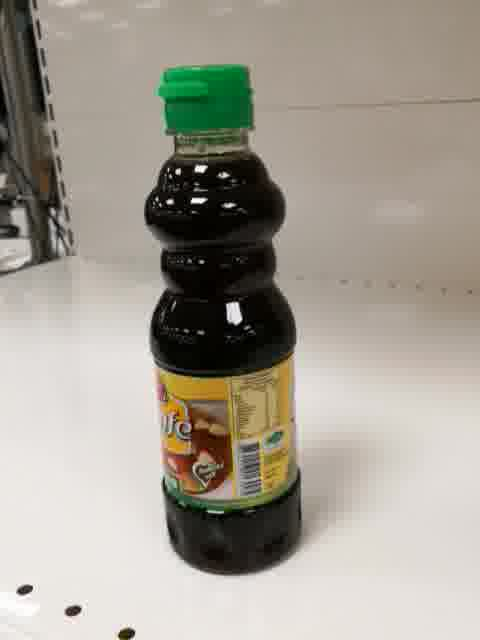cookingoil: (141, 63, 304, 577)
